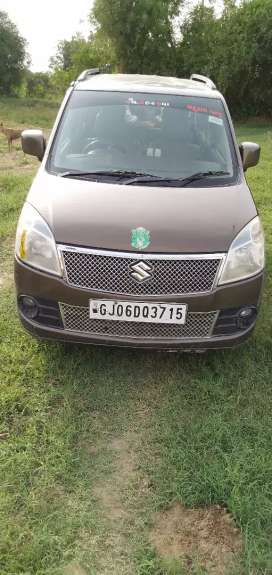license_plate: (91, 301, 186, 322)
